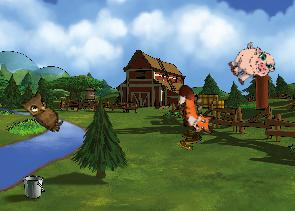fox: (176, 82, 217, 137)
owl: (17, 86, 71, 134)
pig: (223, 37, 279, 92)
